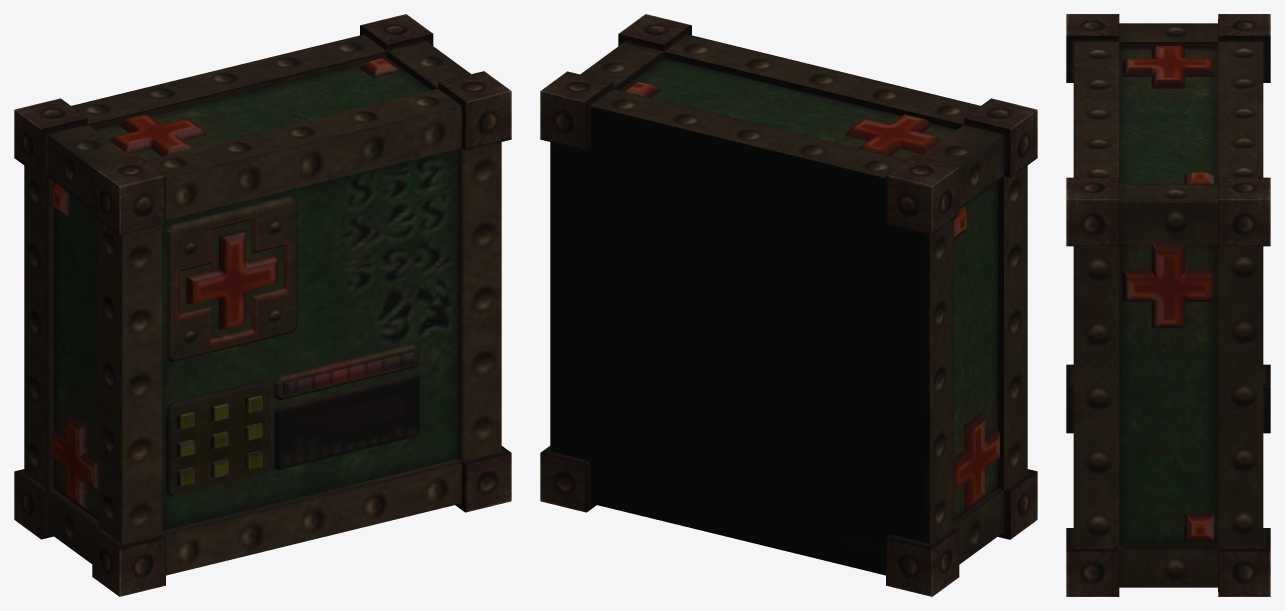
3 renders of one model, left to right at view 1: azimuth 30°, elevation 25°; view 2: azimuth 150°, elevation 25°; view 3: azimuth 270°, elevation 25°, orthographic. The views are drawn at different scales.
Size of the model in its own units: 36.11 by 36.11 by 16.81.
Materials: 1 (1 with a texture image).
